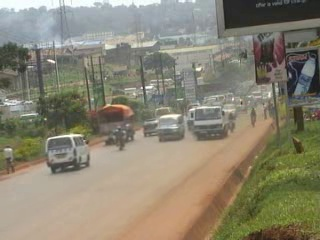Car: (140, 116, 160, 138), (224, 102, 238, 118)
Motorcycle: (114, 125, 125, 152), (226, 112, 236, 132)
